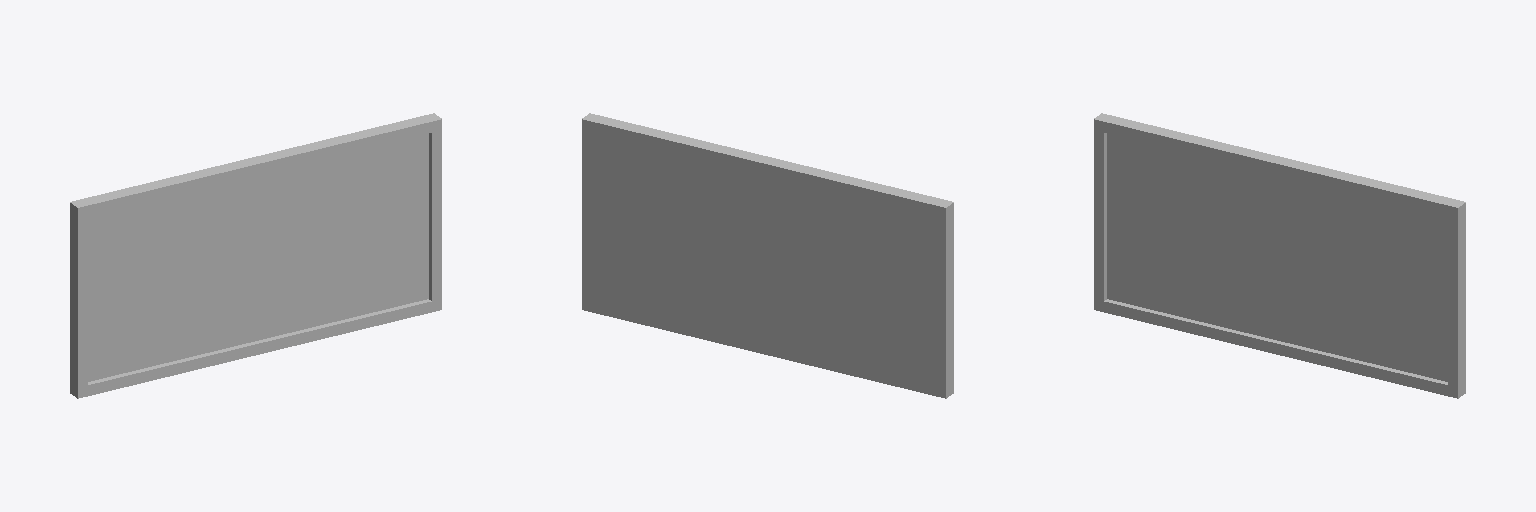
The model's file is window_003.obj.
3 renders of one model, left to right at view 1: azimuth 30°, elevation 25°; view 2: azimuth 150°, elevation 25°; view 3: azimuth 330°, elevation 25°, orthographic.
Parts seen in each view (by area): view 1: window_003_Plane.004; view 2: window_003_Plane.004; view 3: window_003_Plane.004.
Boxes of the visible parts, x1,y1,x2,y2 form: window_003_Plane.004: [70, 113, 441, 398]; window_003_Plane.004: [582, 113, 953, 398]; window_003_Plane.004: [1094, 113, 1465, 398].
Size of the model in its own units: 1.47 by 0.7346 by 0.0571.